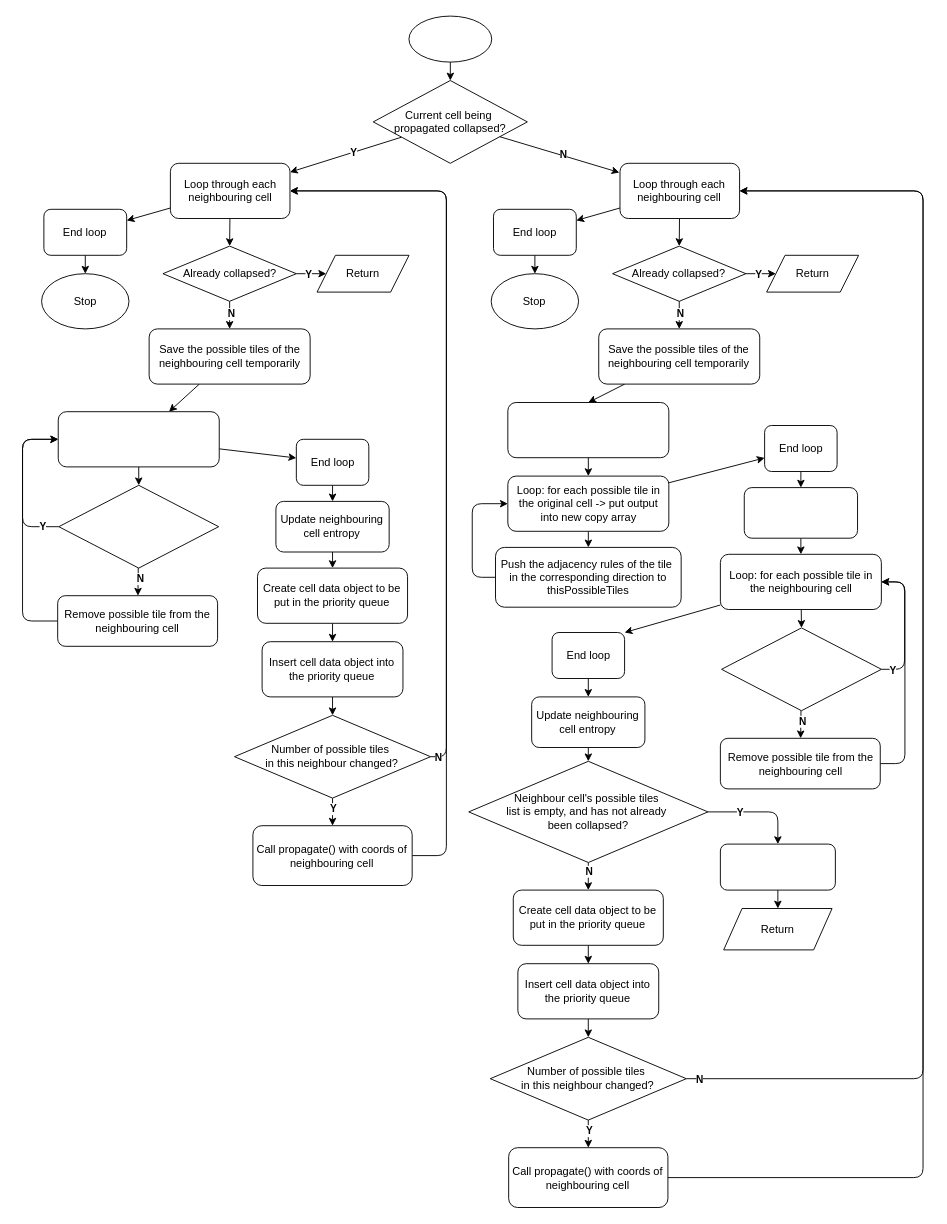
Image size: 947x1224. Some labels were removed from this diagram. The centre of each missing label's shape, as x and y in pixels:
Create new array thisPossibleTiles: (x=588, y=430)
Flatten the possible tile array: (x=800, y=512)
Is this also a possible tile of the original cell?: (x=138, y=526)
Is this possible tile in thisPossibleTiles?: (x=801, y=669)
Loop: for each possible tile in neighbouring cell: (x=138, y=439)
Set failed to true: (x=777, y=866)
Start: (x=450, y=38)
